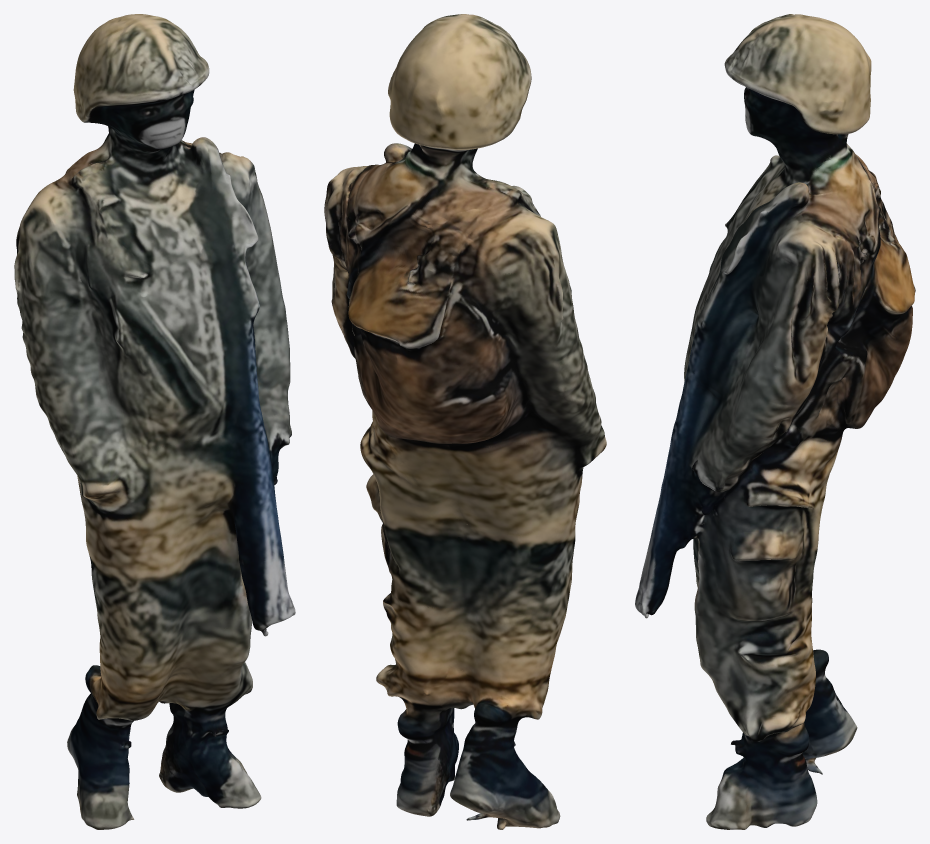
Rendered from desert camo soldier 3d model.gltf.
3 renders of one model, left to right at view 1: azimuth 30°, elevation 25°; view 2: azimuth 150°, elevation 25°; view 3: azimuth 270°, elevation 25°, orthographic. The views are drawn at different scales.
Parts seen in each view (by area): view 1: tripo_node_02f4858c-3bf3-4b8a-a2c4-527e2dc2bbfa; view 2: tripo_node_02f4858c-3bf3-4b8a-a2c4-527e2dc2bbfa; view 3: tripo_node_02f4858c-3bf3-4b8a-a2c4-527e2dc2bbfa.
Boxes of the visible parts, x1,y1,x2,y2 form: tripo_node_02f4858c-3bf3-4b8a-a2c4-527e2dc2bbfa: (14, 14, 295, 829); tripo_node_02f4858c-3bf3-4b8a-a2c4-527e2dc2bbfa: (324, 14, 606, 829); tripo_node_02f4858c-3bf3-4b8a-a2c4-527e2dc2bbfa: (635, 14, 915, 829).
Bounding box in the file's own units: 0.3248 × 1 × 0.3258.
Materials: 1 (1 with a texture image).
